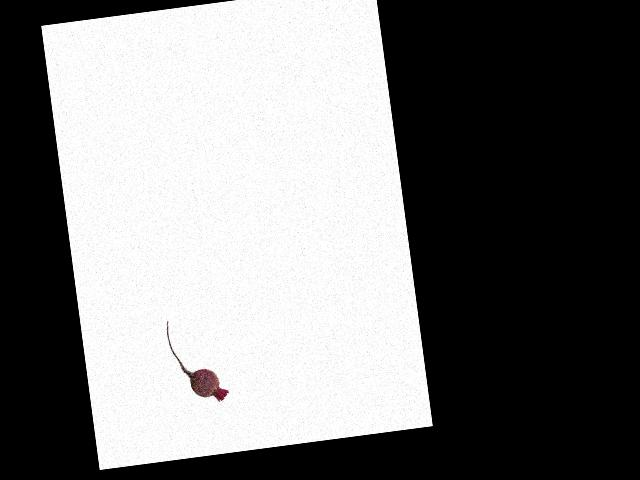beet: (165, 313, 229, 406)
